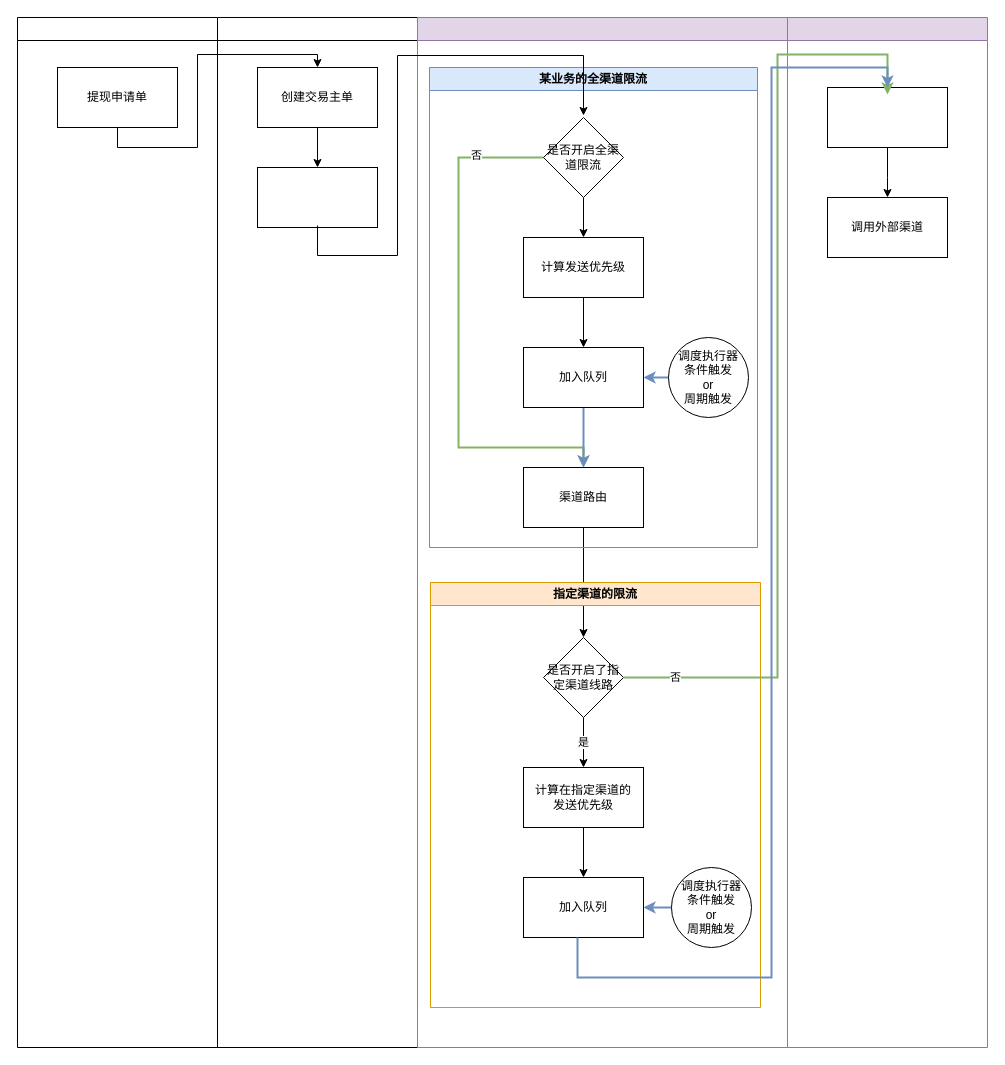
Some shapes in this 1005 by 1065 pixel diagram are drawn without their labels. Each missing label, with the box of its shape:
xx渠道接入网关: (786, 16, 988, 1048)
业务系统: (16, 16, 218, 1048)
交易系统: (216, 16, 418, 1048)
创建支付子单: (256, 166, 378, 228)
创建渠道单 状态：pending: (826, 86, 948, 148)
渠道路由系统: (416, 16, 788, 1048)
